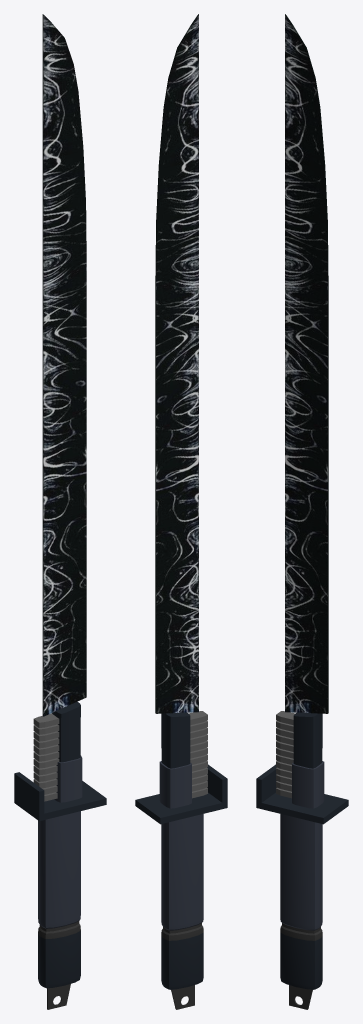
Rendered from Darksaber.FBX.
The picture shows the model from 3 angles, left to right: view 1: azimuth 30°, elevation 25°; view 2: azimuth 210°, elevation 25°; view 3: azimuth 330°, elevation 25°; orthographic projection.
Parts seen in each view (by area): view 1: Blade, Darksaber; view 2: Blade, Darksaber; view 3: Blade, Darksaber.
Boxes of the visible parts, x1=… form: Blade: x1=42, y1=14, x2=86, y2=716; Darksaber: x1=14, y1=701, x2=106, y2=1009; Blade: x1=155, y1=14, x2=198, y2=713; Darksaber: x1=135, y1=711, x2=227, y2=1009; Blade: x1=285, y1=14, x2=328, y2=713; Darksaber: x1=256, y1=711, x2=348, y2=1009.
Bounding box in the file's own units: 125 × 1761 × 80.39.
5 materials, 1 textured.
